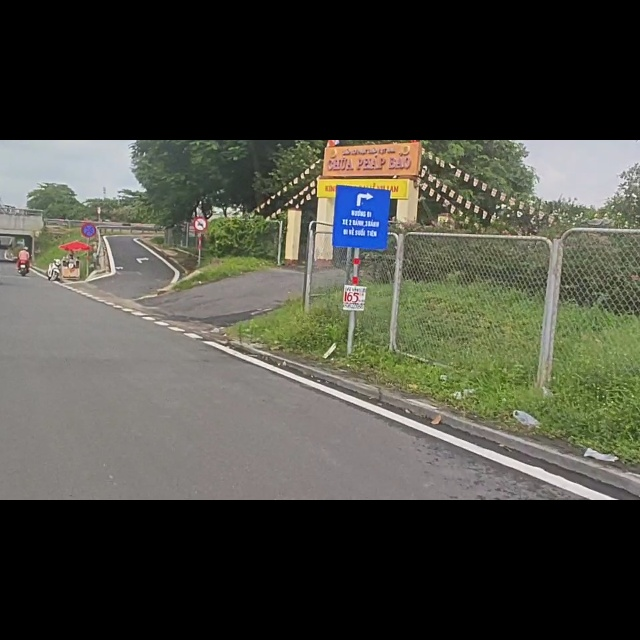bien_chi_dan: (193, 134, 209, 165), (81, 146, 97, 173)
